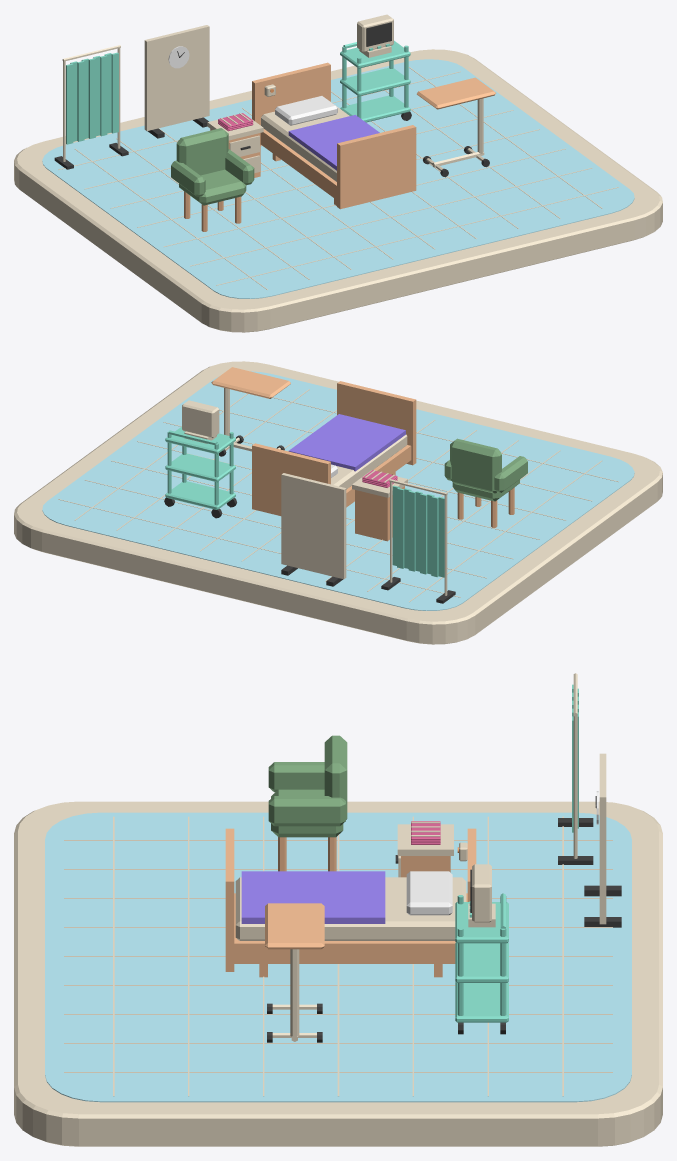
3 renders of one model, top to bottom at view 1: azimuth 30°, elevation 25°; view 2: azimuth 150°, elevation 25°; view 3: azimuth 270°, elevation 25°, orthographic. The views are drawn at different scales.
Parts seen in each view (by area): view 1: COM-02 Floor Surface, COM-01 Rounded Base Direct, Panel, End board, End board.001, Blanket, Back, Mattress, Table top, Frame, Cushion, Pillow (+15 smaller); view 2: COM-02 Floor Surface, COM-01 Rounded Base Direct, Panel, Blanket, End board.001, End board, Back, Body, Table top, Housing, Tray, Tray.001 (+12 smaller); view 3: COM-02 Floor Surface, COM-01 Rounded Base Direct, Blanket, Mattress, Frame, Table top, Arm.001, Pillow, Tray, Tray.001, Arm, Back (+9 smaller).
Boxes of the visible parts, bbox=[...] form: COM-02 Floor Surface: bbox=[42, 59, 634, 298]; COM-01 Rounded Base Direct: bbox=[14, 49, 662, 332]; Panel: bbox=[144, 25, 209, 130]; End board: bbox=[337, 125, 416, 209]; End board.001: bbox=[252, 62, 330, 145]; Blanket: bbox=[288, 115, 379, 170]; Back: bbox=[176, 128, 228, 175]; Mattress: bbox=[261, 101, 349, 181]; Table top: bbox=[417, 77, 495, 109]; Frame: bbox=[260, 129, 336, 199]; Cushion: bbox=[179, 169, 246, 205]; Pillow: bbox=[275, 96, 337, 125]; COM-02 Floor Surface: bbox=[42, 371, 634, 610]; COM-01 Rounded Base Direct: bbox=[14, 361, 662, 644]; Panel: bbox=[281, 473, 346, 579]; Blanket: bbox=[288, 414, 405, 471]; End board.001: bbox=[252, 443, 330, 515]; End board: bbox=[337, 381, 416, 465]; Back: bbox=[450, 438, 501, 493]; Body: bbox=[355, 486, 404, 541]; Table top: bbox=[211, 367, 290, 398]; Housing: bbox=[182, 400, 219, 437]; Tray: bbox=[165, 481, 235, 509]; Tray.001: bbox=[165, 453, 235, 482]; COM-02 Floor Surface: bbox=[45, 812, 631, 1102]; COM-01 Rounded Base Direct: bbox=[14, 801, 662, 1146]; Blanket: bbox=[241, 871, 385, 923]; Mattress: bbox=[235, 877, 466, 940]; Frame: bbox=[234, 893, 467, 963]; Table top: bbox=[265, 903, 324, 949]; Arm.001: bbox=[268, 796, 345, 826]; Pillow: bbox=[406, 871, 452, 915]; Tray: bbox=[455, 982, 508, 1022]; Tray.001: bbox=[455, 942, 508, 982]; Arm: bbox=[268, 762, 324, 792]; Back: bbox=[324, 735, 347, 819].
Bounding box in the file's own units: 6 × 1.63 × 5.2.
1 material, 1 textured.
